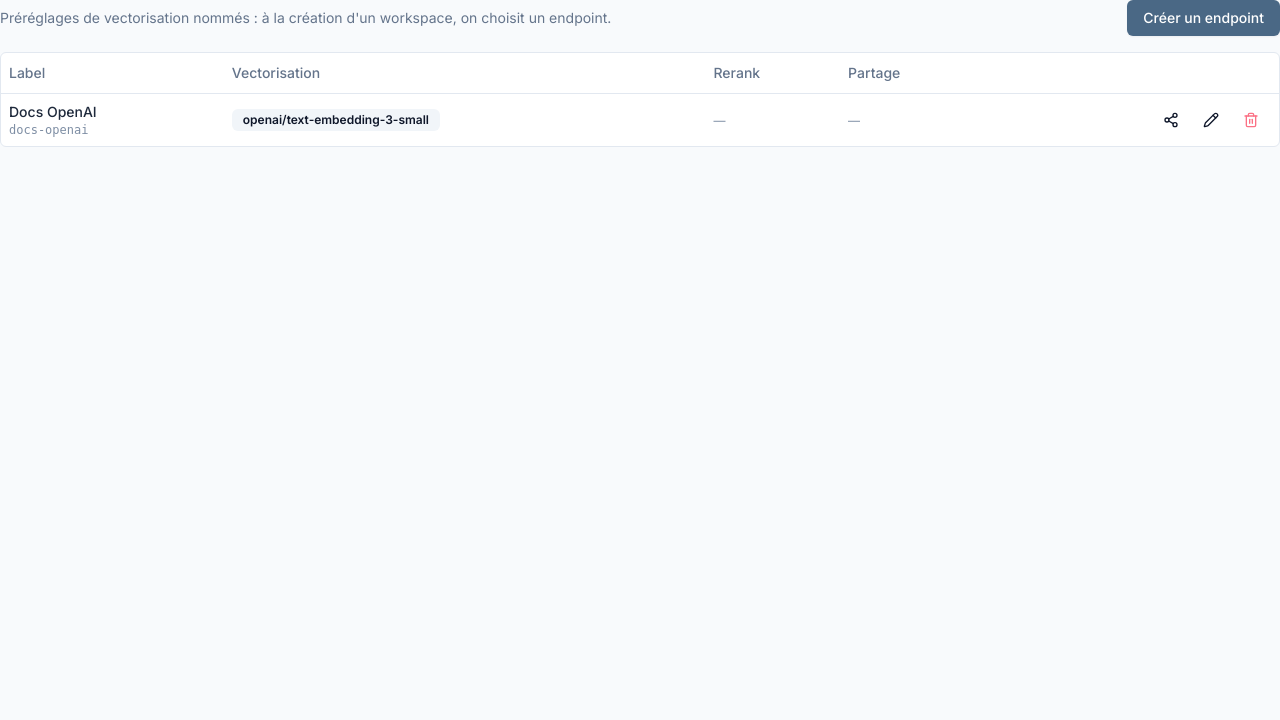
Test: VaultEndpointsTab — dialogue de partage › une sélection annulée ne réapparaît pas à la réouverture
Click the button named "Partager" at (1171, 120), box [1151,104,1191,136]
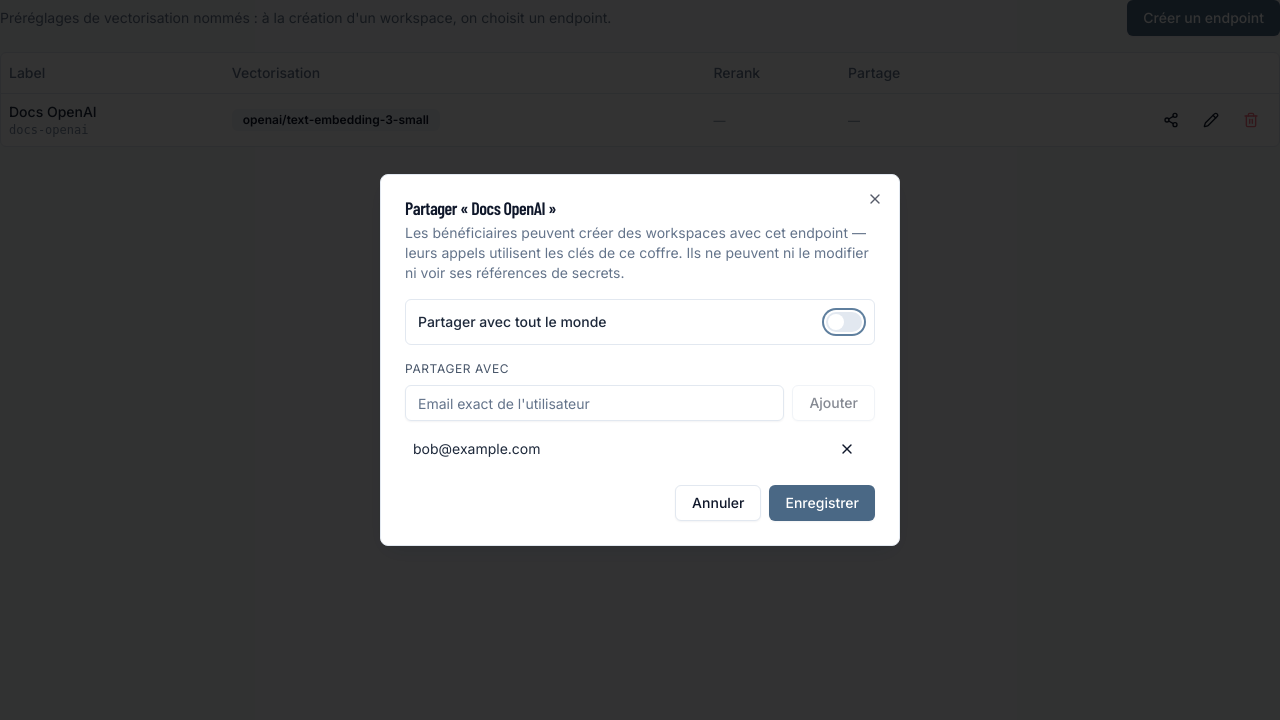
Click the button named "Retirer bob@example.com" at (847, 449), box [827,433,867,465]
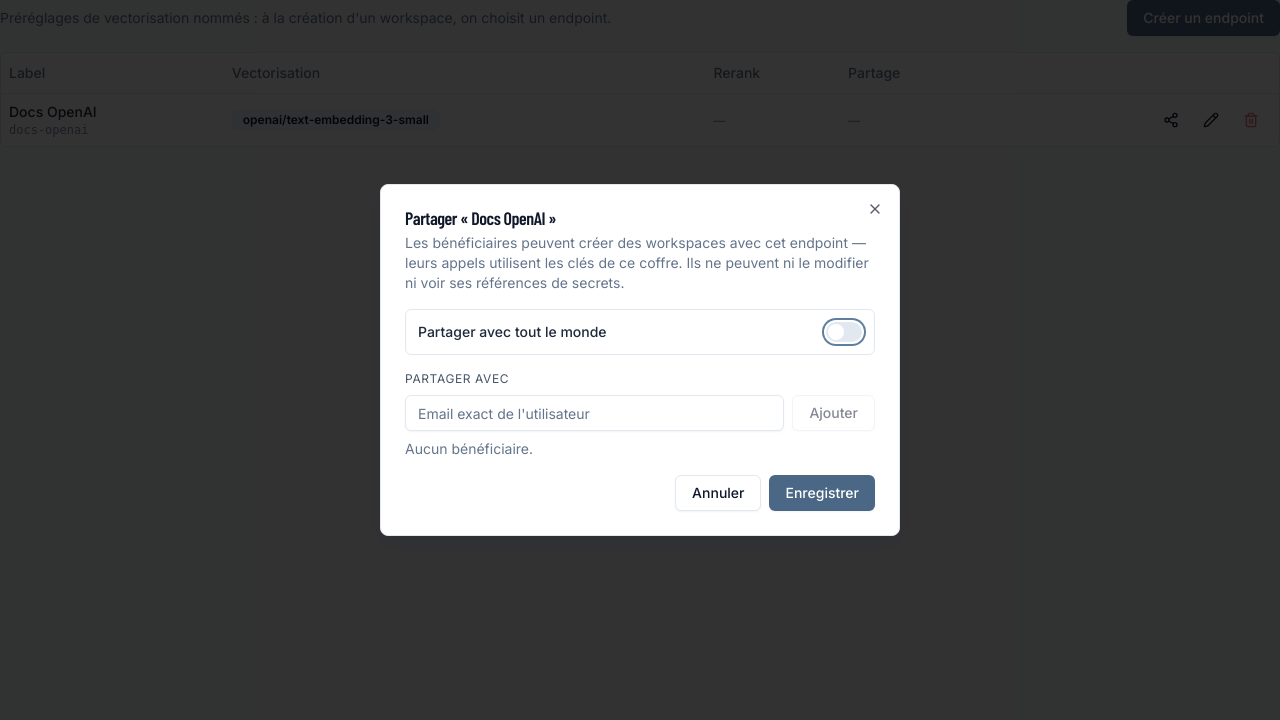
Click the button "Annuler" at (718, 493), box [675,475,762,511]
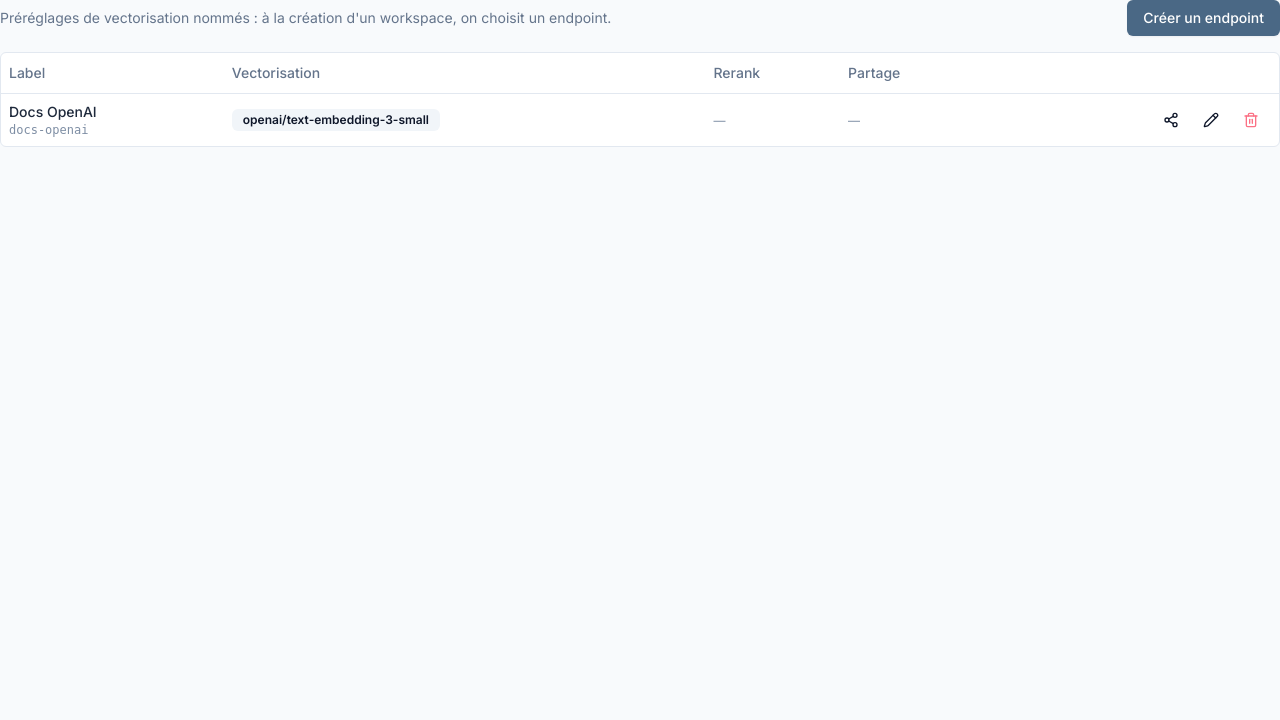
Expected: the dialog is gone
Click the button named "Partager" at (1171, 120), box [1151,104,1191,136]
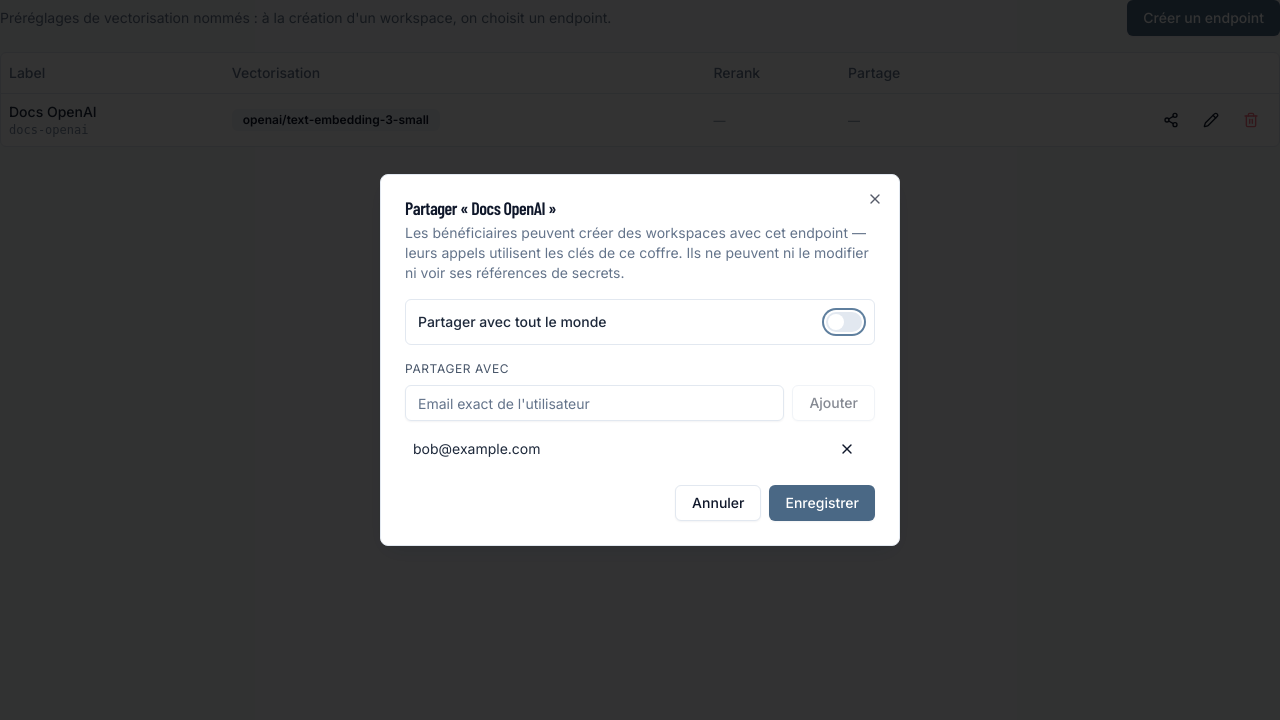
Expected: the text "bob@example.com" is shown, [413,439,540,459]
